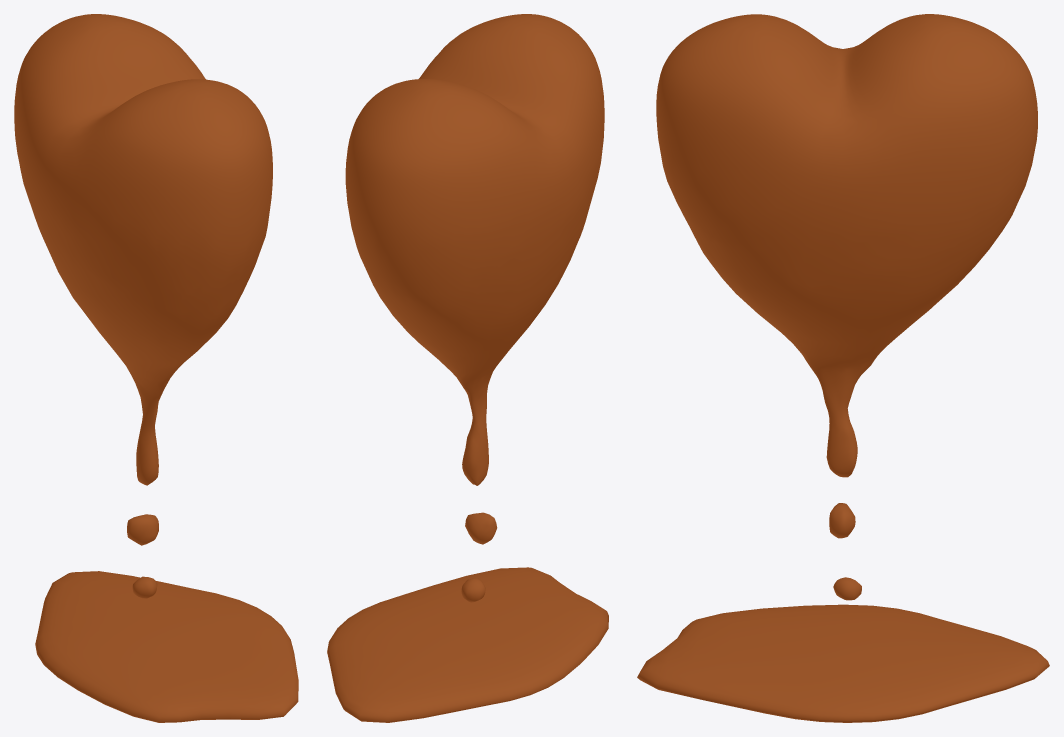
The model's file is heart2.glb.
3 renders of one model, left to right at view 1: azimuth 30°, elevation 25°; view 2: azimuth 150°, elevation 25°; view 3: azimuth 270°, elevation 25°, orthographic. The views are drawn at different scales.
Visible parts, largest first — view 1: Chocolate Heart_0; view 2: Chocolate Heart_0; view 3: Chocolate Heart_0.
Boxes of the visible parts, <box> form: Chocolate Heart_0: <box>14,14,298,722</box>; Chocolate Heart_0: <box>327,14,608,722</box>; Chocolate Heart_0: <box>637,14,1049,722</box>.
Size of the model in its own units: 10.17 by 26.55 by 15.58.
